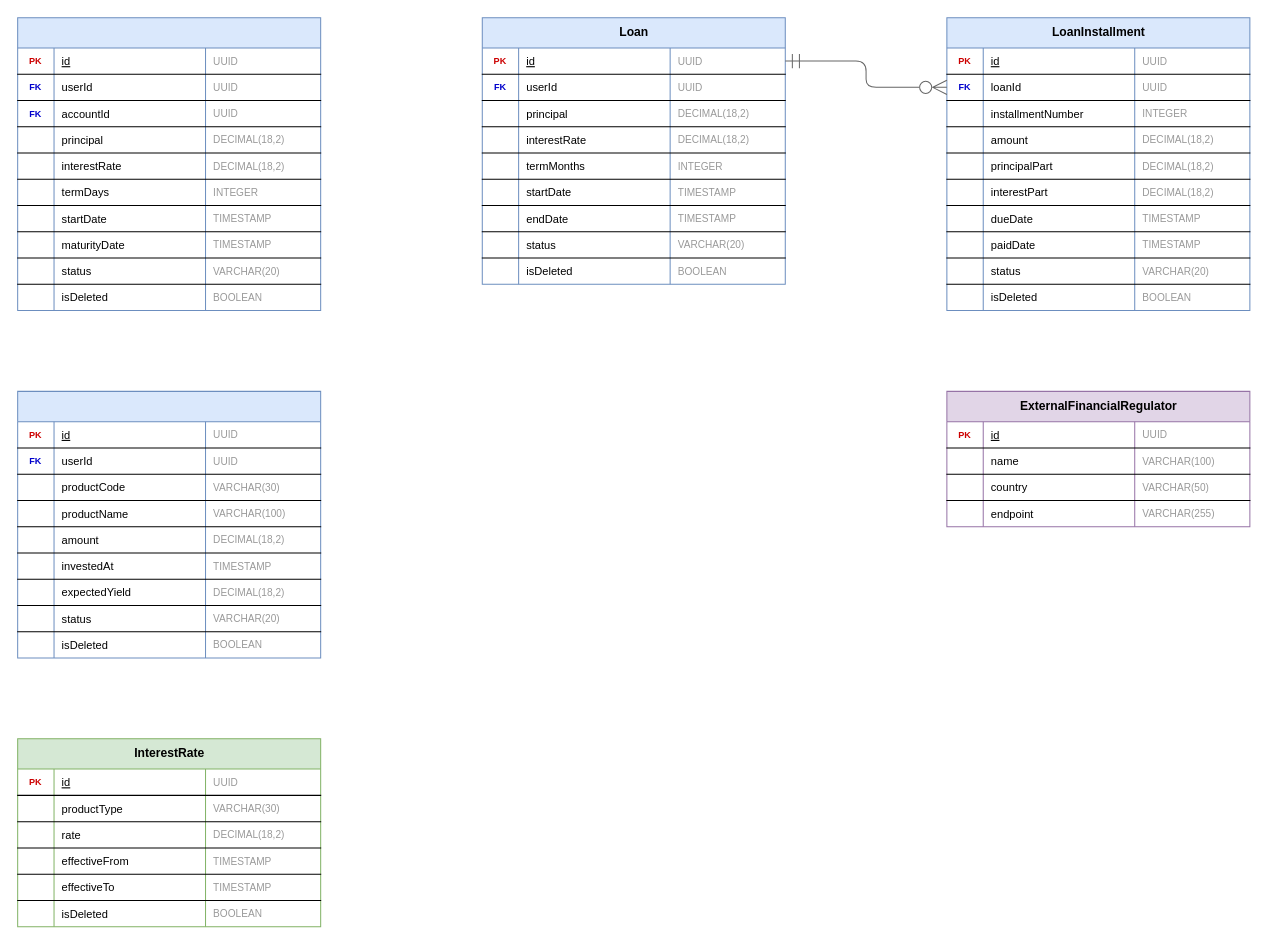
Some shapes in this 1268 by 944 pixel diagram are drawn without their labels. Here are the shapes that lost their labels. From the top down, the box of each, then its label:
(17, 17, 321, 311): CDT
(17, 390, 321, 658): Investment
